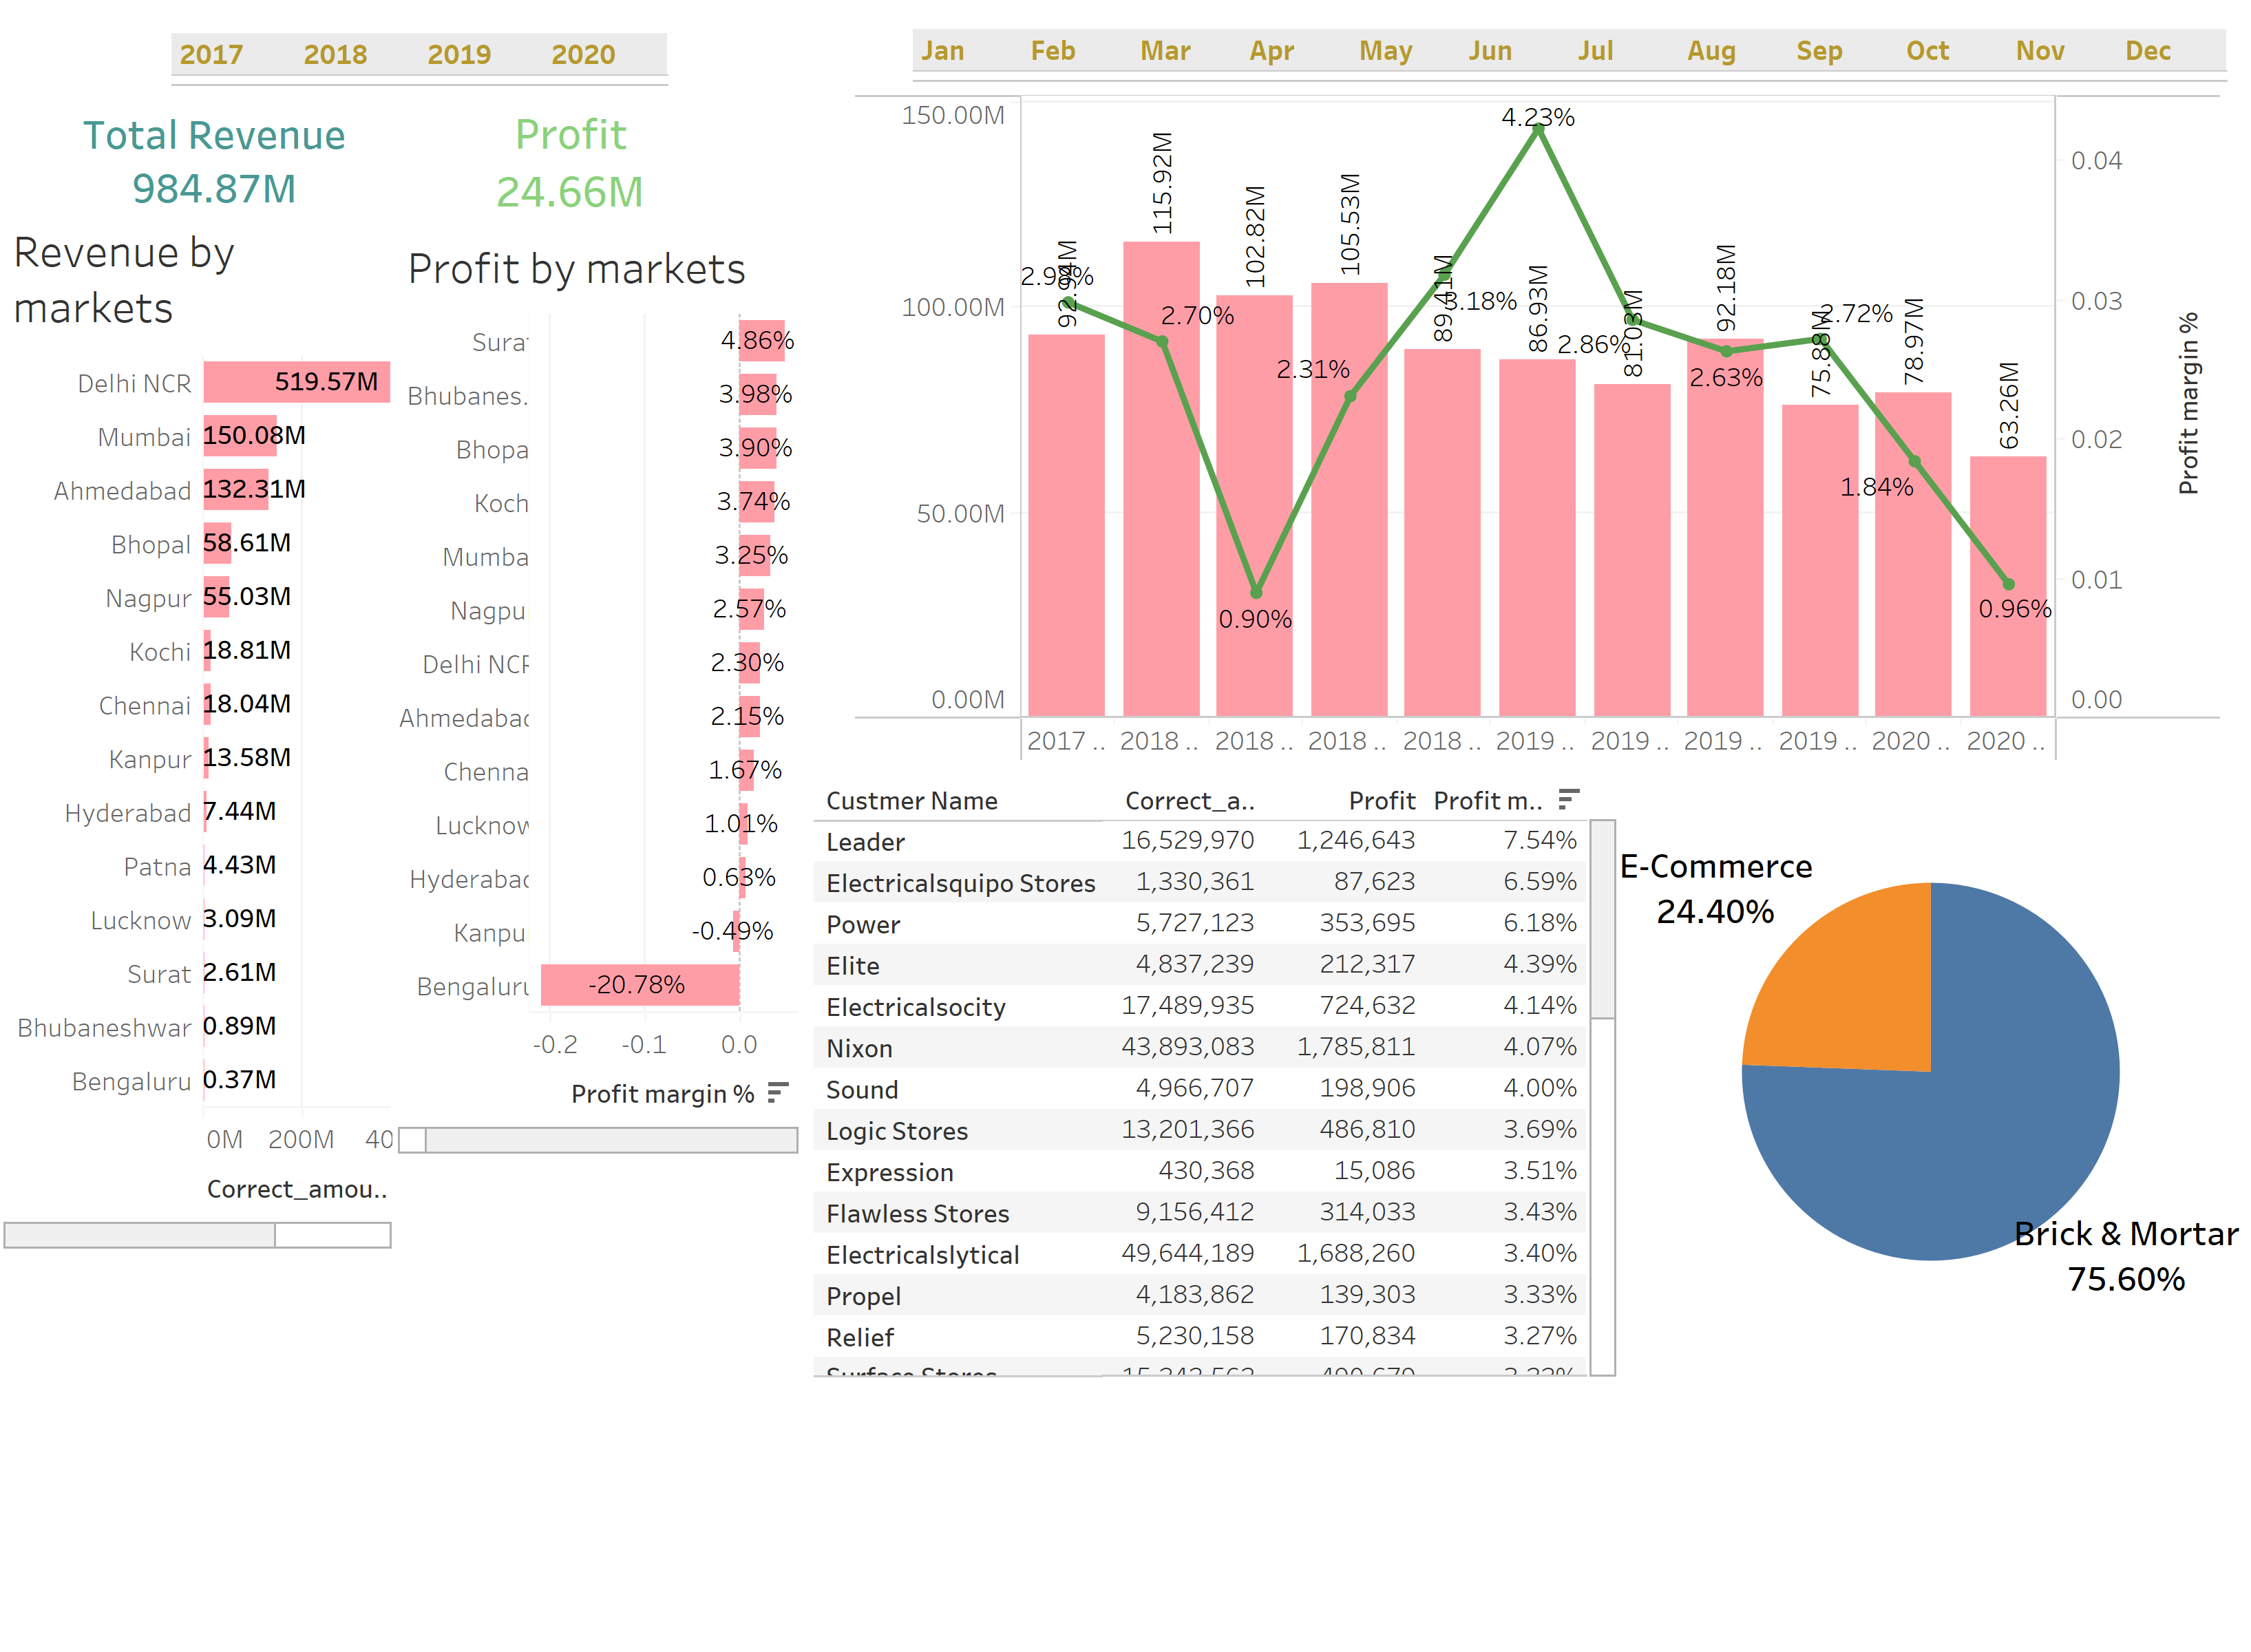

The dashboard page shown, as its layout file describes it:
{"tool":"tableau","page":{"name":"Dashboard Profit Analysis","canvas":[1090,800],"ordinal":0},"visuals":[{"type":"worksheet","title":"Year","mark":"Automatic","cols":["cy_date"],"box":[83,1,272,44]},{"type":"worksheet","title":"Revenue","mark":"Automatic","box":[34,37,167,71]},{"type":"worksheet","title":"Profit Trend","mark":"Bar","rows":["Calculation_267401277684969472","Calculation_135670989146619904"],"cols":["cy_date"],"box":[414,46,662,323]},{"type":"worksheet","title":"Profit","mark":"Automatic","box":[227,51,118,78]},{"type":"worksheet","title":"Revenue by markets","mark":"Automatic","rows":["markets_name"],"cols":["Calculation_267401277684969472"],"box":[2,101,187,556]},{"type":"worksheet","title":"Profit by markets","mark":"Automatic","rows":["markets_name"],"cols":["Calculation_135670989146619904"],"box":[193,109,193,555]},{"type":"worksheet","title":"Customer table","mark":"Automatic","rows":["custmer_name"],"box":[394,377,390,290]},{"type":"worksheet","title":"pie chart customer type","mark":"Pie","box":[784,379,302,280]}]}

Visuals, with their boxes in screenshot pixels (x1, y1, x2, y2), scaled from the page's 1090x800 canvas onto the 2251x1652 screenshot:
"Year" worksheet: bbox(171, 2, 733, 93)
"Revenue" worksheet: bbox(70, 76, 415, 223)
"Profit Trend" worksheet (Bar marks): bbox(855, 95, 2222, 762)
"Profit" worksheet: bbox(469, 105, 712, 266)
"Revenue by markets" worksheet: bbox(4, 209, 390, 1357)
"Profit by markets" worksheet: bbox(399, 225, 797, 1371)
"Customer table" worksheet: bbox(814, 779, 1619, 1377)
"pie chart customer type" worksheet (Pie marks): bbox(1619, 783, 2243, 1361)
